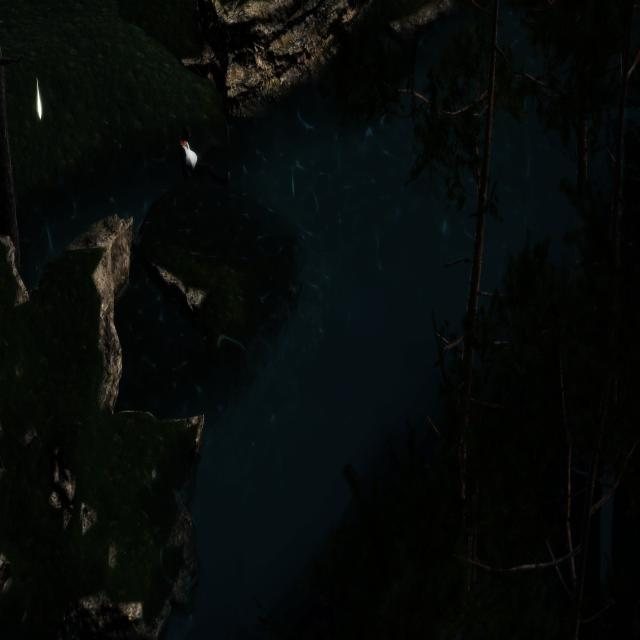Human: (173, 116, 236, 205)
